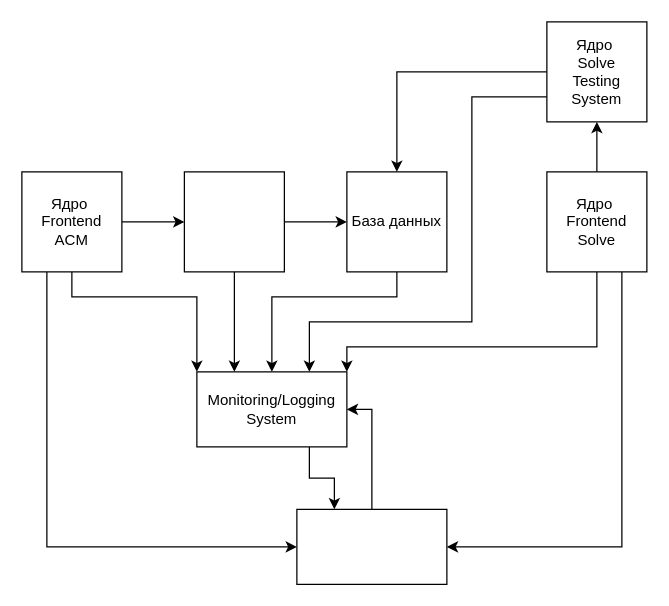
Image size: 669x606. Some labels were removed from this diagram. The centre of each missing label's shape, as x and y in pixels:
"Reverse Proxy" belongs at (371,546).
"Ядро Backend ACM" belongs at (233,221).
